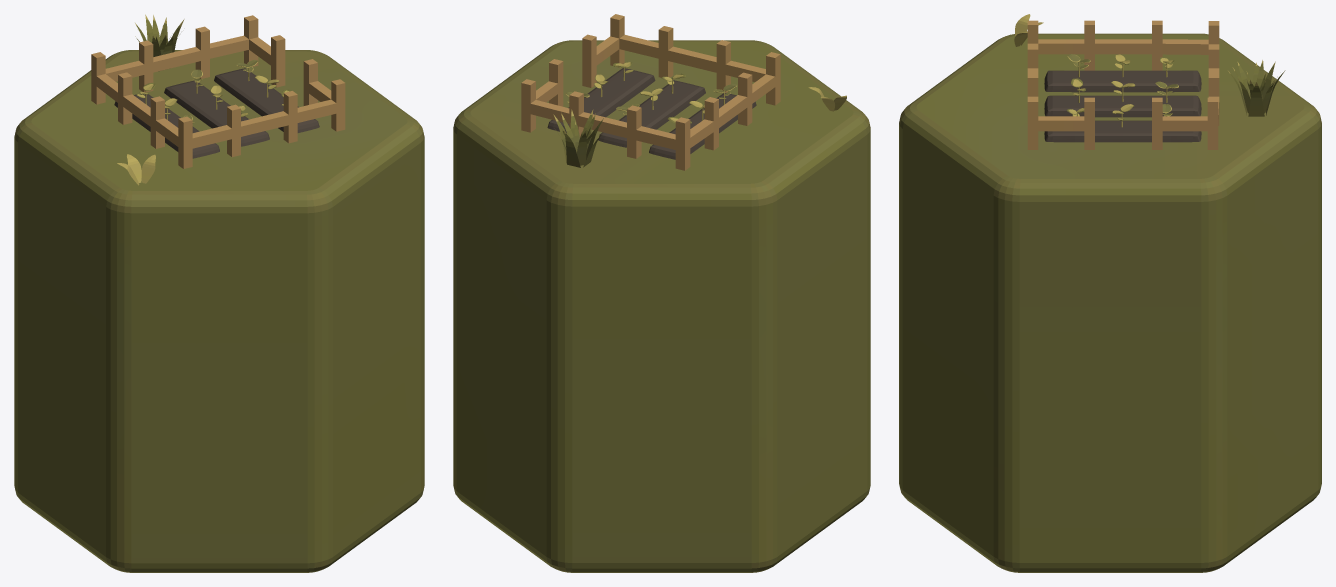
Rendered from Hex-champ1.glb.
The picture shows the model from 3 angles, left to right: view 1: azimuth 30°, elevation 25°; view 2: azimuth 150°, elevation 25°; view 3: azimuth 270°, elevation 25°; orthographic projection. The views are drawn at different scales.
Visible parts, largest first — view 1: Cylinder, Cube.083_Material.001_0, Plane.094_Material.001_0, Plane.083_Material.001_0; view 2: Cylinder, Cube.083_Material.001_0, Plane.094_Material.001_0; view 3: Cylinder, Cube.083_Material.001_0, Plane.094_Material.001_0.
Boxes of the visible parts, left/top/right/bottom form: Cylinder: left=14, top=50, right=424, bottom=572; Cube.083_Material.001_0: left=91, top=15, right=345, bottom=168; Plane.094_Material.001_0: left=135, top=14, right=184, bottom=71; Plane.083_Material.001_0: left=117, top=154, right=155, bottom=185; Cylinder: left=453, top=40, right=870, bottom=572; Cube.083_Material.001_0: left=521, top=14, right=780, bottom=170; Plane.094_Material.001_0: left=553, top=109, right=603, bottom=167; Cylinder: left=899, top=33, right=1321, bottom=572; Cube.083_Material.001_0: left=1027, top=20, right=1219, bottom=149; Plane.094_Material.001_0: left=1228, top=60, right=1285, bottom=116.
Size of the model in its own units: 1.73 by 2.25 by 1.95.
2 materials, 2 textured.
